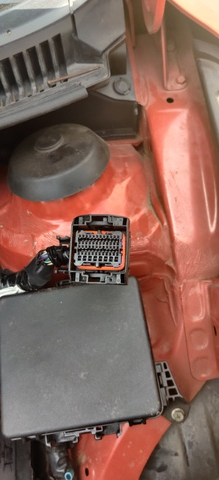connector: (69, 215, 131, 285)
